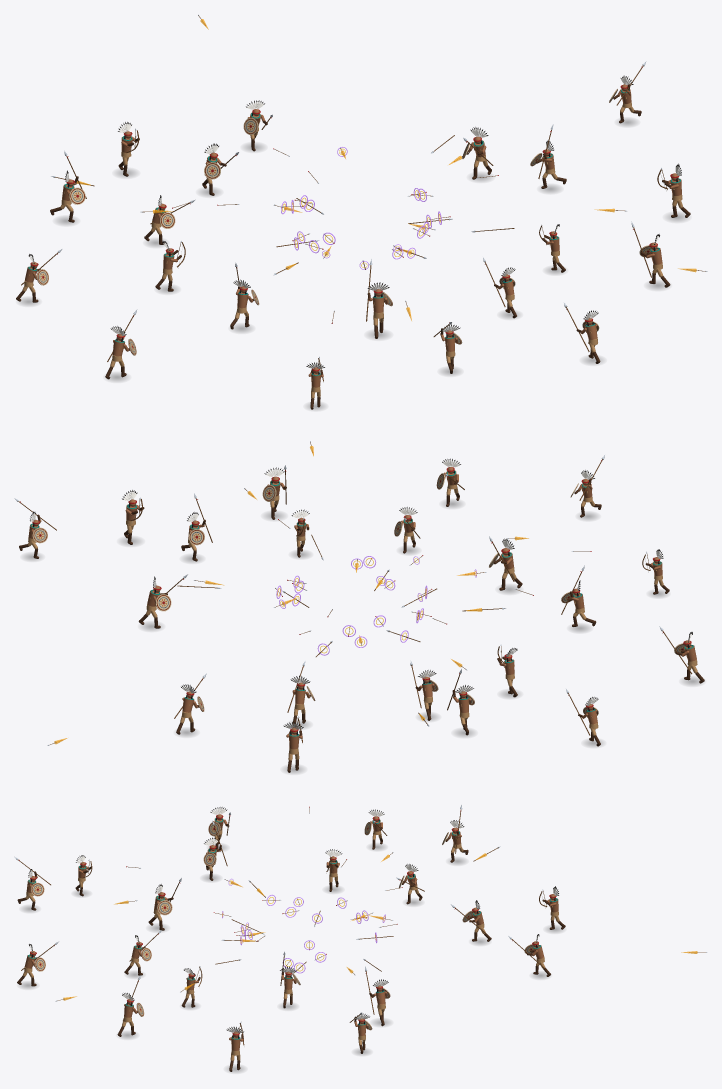
Rendered from indian-warrior-horde-and-arrows.glb.
3 views of the same model, one above another, from view 1: azimuth 30°, elevation 25°; view 2: azimuth 150°, elevation 25°; view 3: azimuth 270°, elevation 25° (orthographic). The views are drawn at different scales.
Parts seen in each view (by area): view 1: Warrior_18_leaper, Warrior_16_charger, Warrior_5_charger, Warrior_17_charger, Warrior_11_archer, Warrior_12_charger, Warrior_8_charger, Warrior_6_leaper; view 2: Warrior_1_charger, Warrior_5_charger, Warrior_16_charger, Warrior_20_charger, Warrior_6_leaper, Warrior_12_charger, Warrior_10_leaper, Warrior_13_charger, Warrior_19_archer, Warrior_2_leaper, Warrior_11_archer; view 3: Warrior_5_charger, Warrior_13_charger, Warrior_12_charger, Warrior_9_charger, Warrior_14_leaper, Warrior_20_charger, Warrior_4_charger, Warrior_11_archer, Warrior_19_archer.
Boxes of the visible parts, x1,y1,x2,y2 form: Warrior_18_leaper: (50,176,85,224); Warrior_16_charger: (105,334,136,380); Warrior_5_charger: (367,289,392,338); Warrior_17_charger: (16,262,48,304); Warrior_11_archer: (657,169,690,220); Warrior_12_charger: (639,242,670,289); Warrior_8_charger: (144,203,175,246); Warrior_6_leaper: (230,282,259,331); Warrior_1_charger: (138,585,171,629); Warrior_5_charger: (489,548,522,592); Warrior_16_charger: (674,640,704,684); Warrior_20_charger: (176,691,204,735); Warrior_6_leaper: (561,588,596,631); Warrior_12_charger: (262,476,286,519); Warrior_10_leaper: (19,514,47,560); Warrior_13_charger: (436,467,460,507); Warrior_19_archer: (285,717,302,772); Warrior_2_leaper: (181,519,205,561); Warrior_11_archer: (122,499,144,544); Warrior_5_charger: (148,892,173,931); Warrior_13_charger: (17,951,45,988); Warrior_12_charger: (117,999,144,1038); Warrior_9_charger: (462,907,491,944); Warrior_14_leaper: (17,871,44,911); Warrior_20_charger: (524,941,551,978); Warrior_4_charger: (124,942,151,977); Warrior_11_archer: (228,1023,244,1072); Warrior_19_archer: (539,891,565,932).
Bounding box in the file's own units: 29.56 × 4.88 × 33.82.
Materials: 15 (2 with a texture image).
